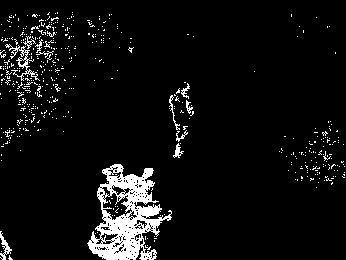person: (167, 78, 195, 163)
